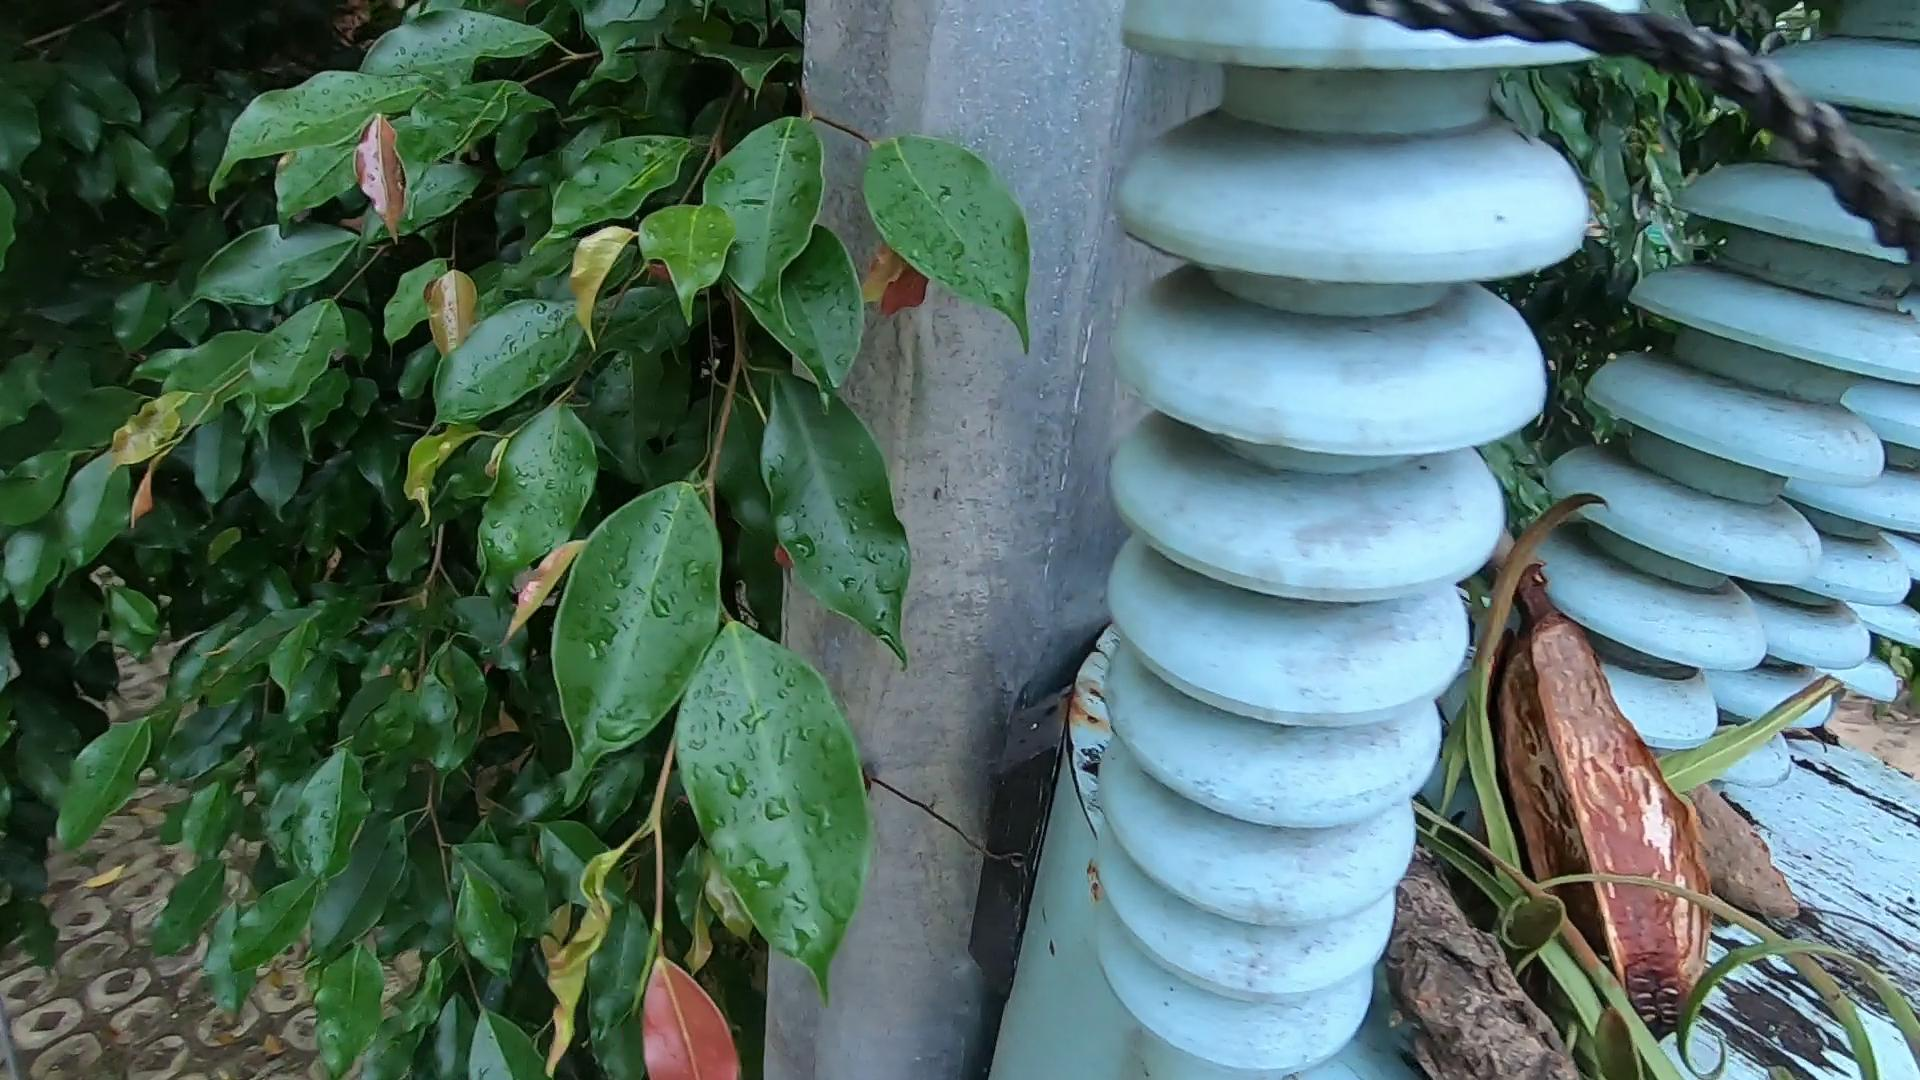branch with leaves: (1395, 699, 1913, 1080)
mahogany fruit: (1636, 709, 1832, 967)
tree branch: (1491, 506, 1564, 624)
